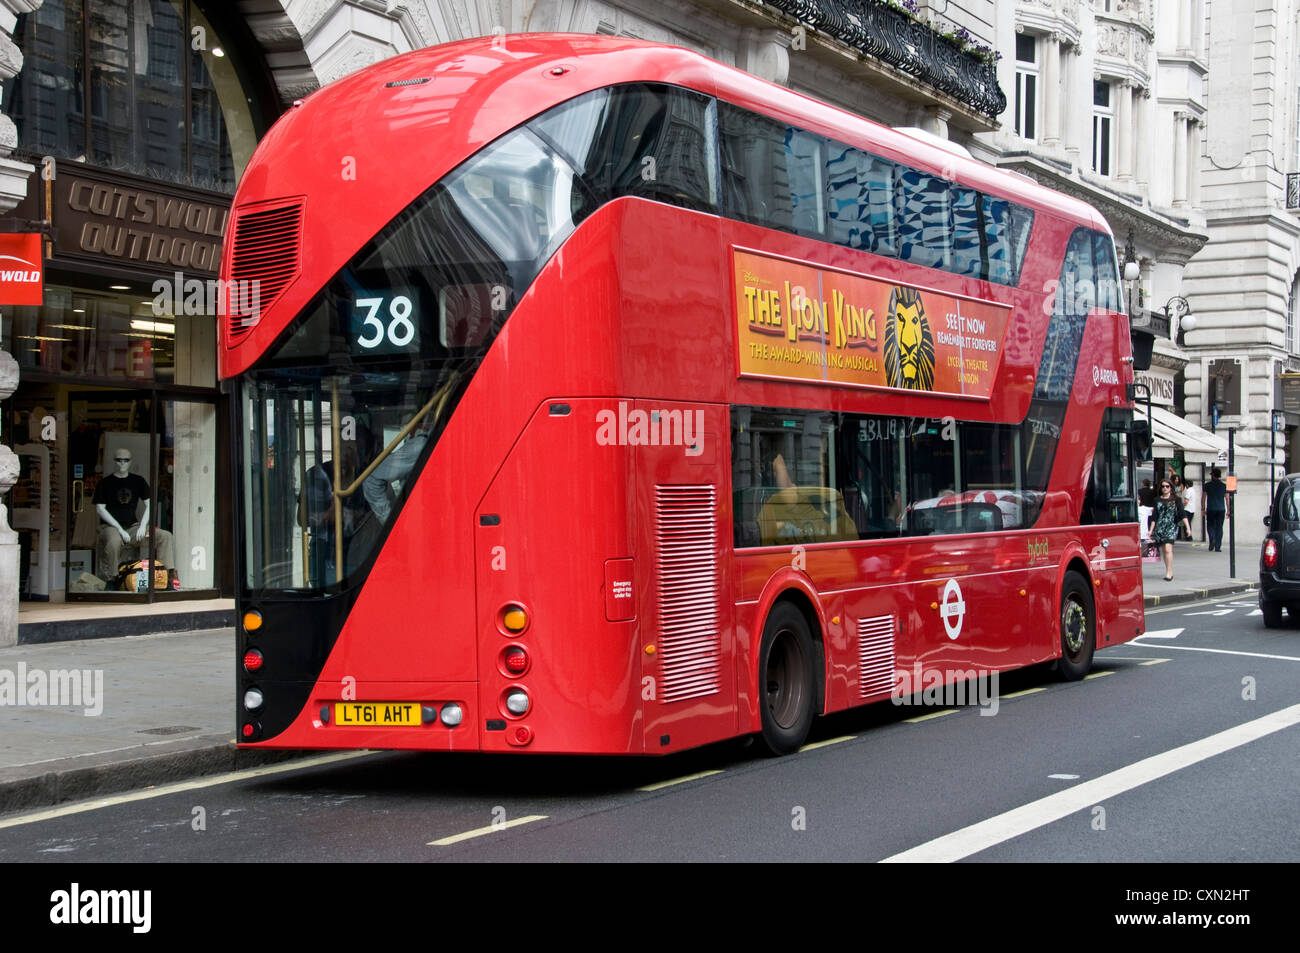red_busess: (213, 33, 1145, 754)
